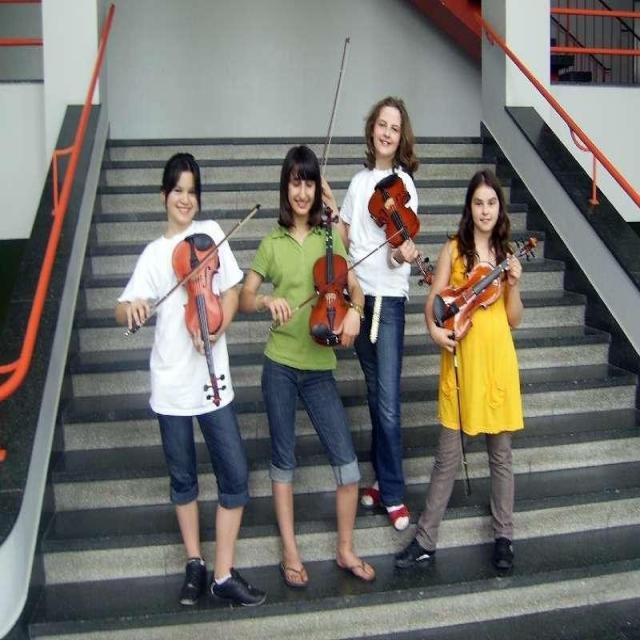violin: (169, 230, 230, 411), (433, 238, 540, 340), (366, 174, 438, 286), (306, 206, 354, 345)
